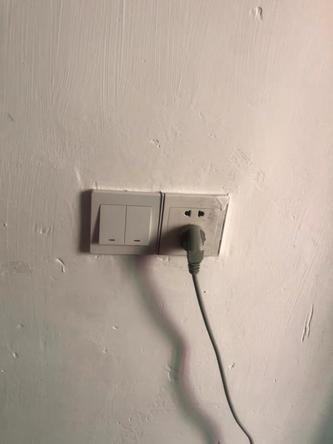switch: (124, 203, 152, 248), (101, 202, 122, 244)
